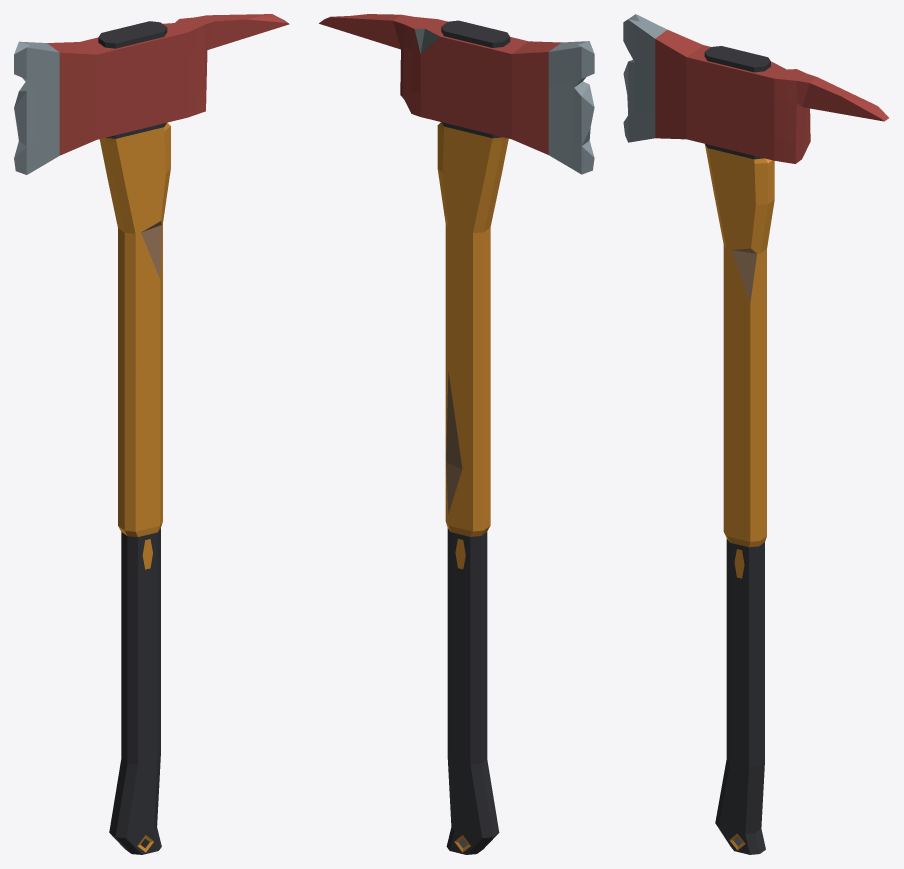
File: SM_Fire_Axe.fbx
The picture shows the model from 3 angles, left to right: view 1: azimuth 30°, elevation 25°; view 2: azimuth 150°, elevation 25°; view 3: azimuth 330°, elevation 25°; orthographic projection. The views are drawn at different scales.
Visible parts, largest first — view 1: SM_Fire_Axe; view 2: SM_Fire_Axe; view 3: SM_Fire_Axe.
Boxes of the visible parts, <box> form: SM_Fire_Axe: <box>14,14,289,854</box>; SM_Fire_Axe: <box>319,14,594,854</box>; SM_Fire_Axe: <box>623,14,888,854</box>.
Size of the model in its own units: 36.66 by 107 by 4.02.
